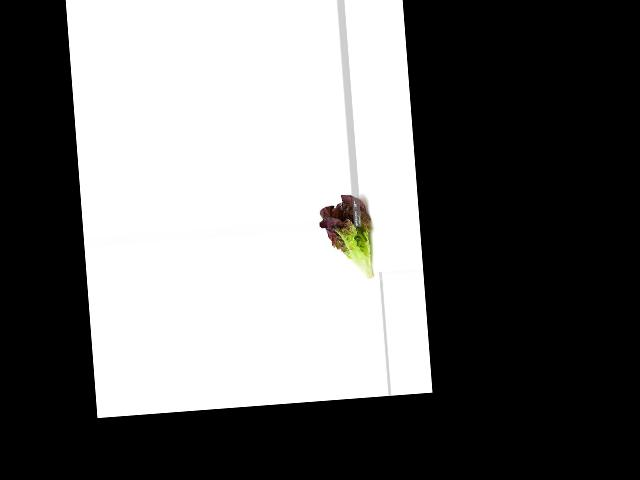lettuce: (316, 191, 379, 285)
